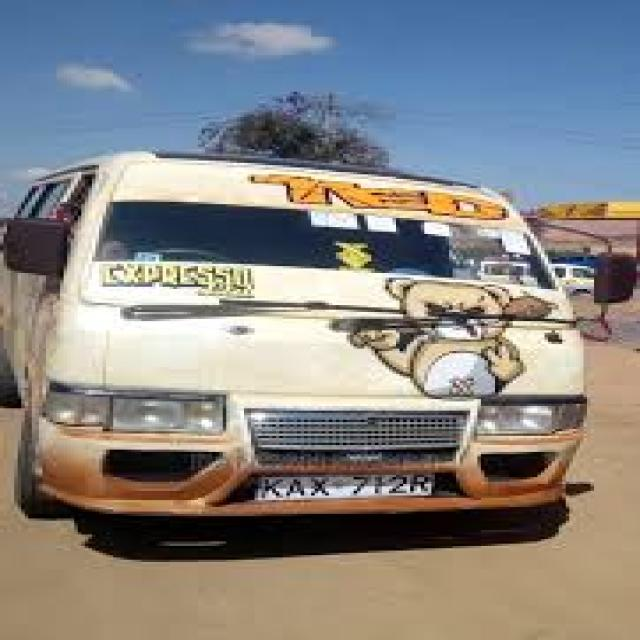matatu: (0, 90, 640, 575)
